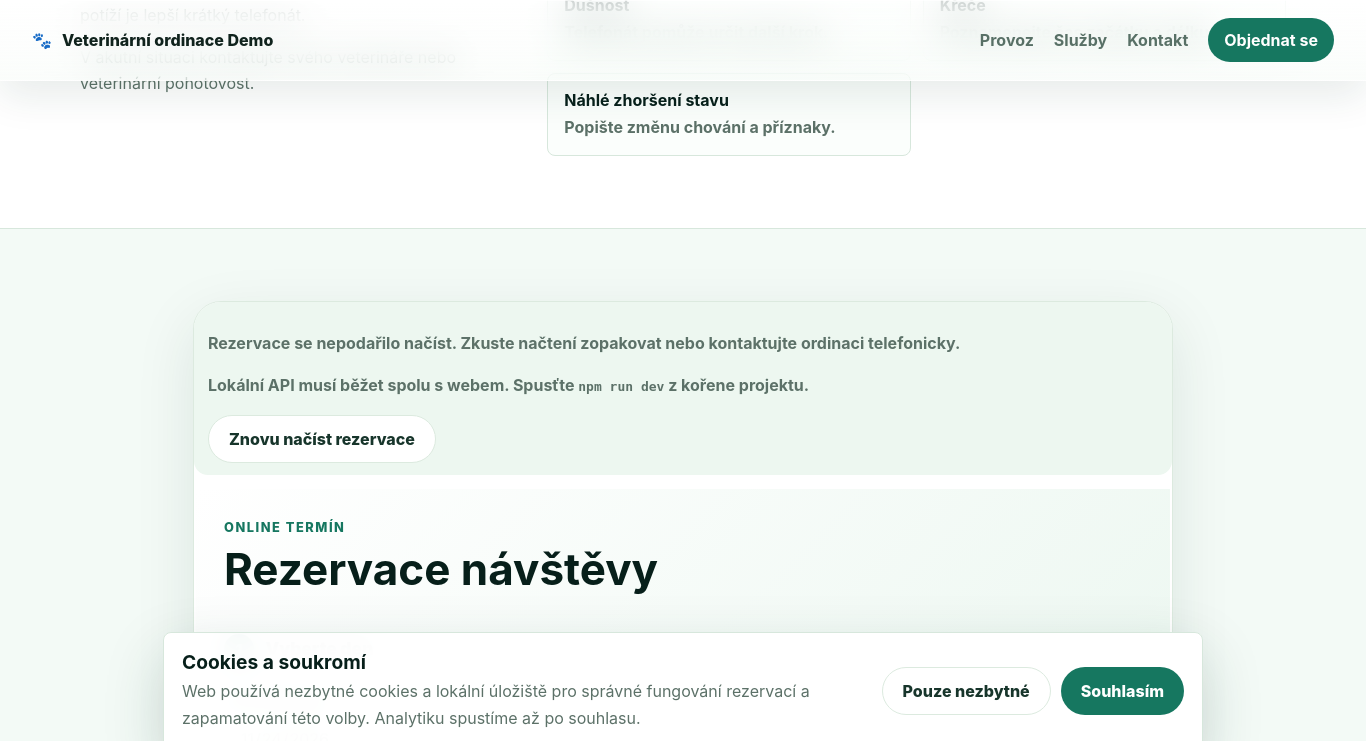
Scenario: shows an actionable error beside the disabled form and recovers after retry
(page scrolled)
Expected: the message is shown, [194, 302, 1172, 475]
Click the button "Znovu načíst rezervace". click: x=322, y=439
box: [208, 415, 436, 463]
(page scrolled)
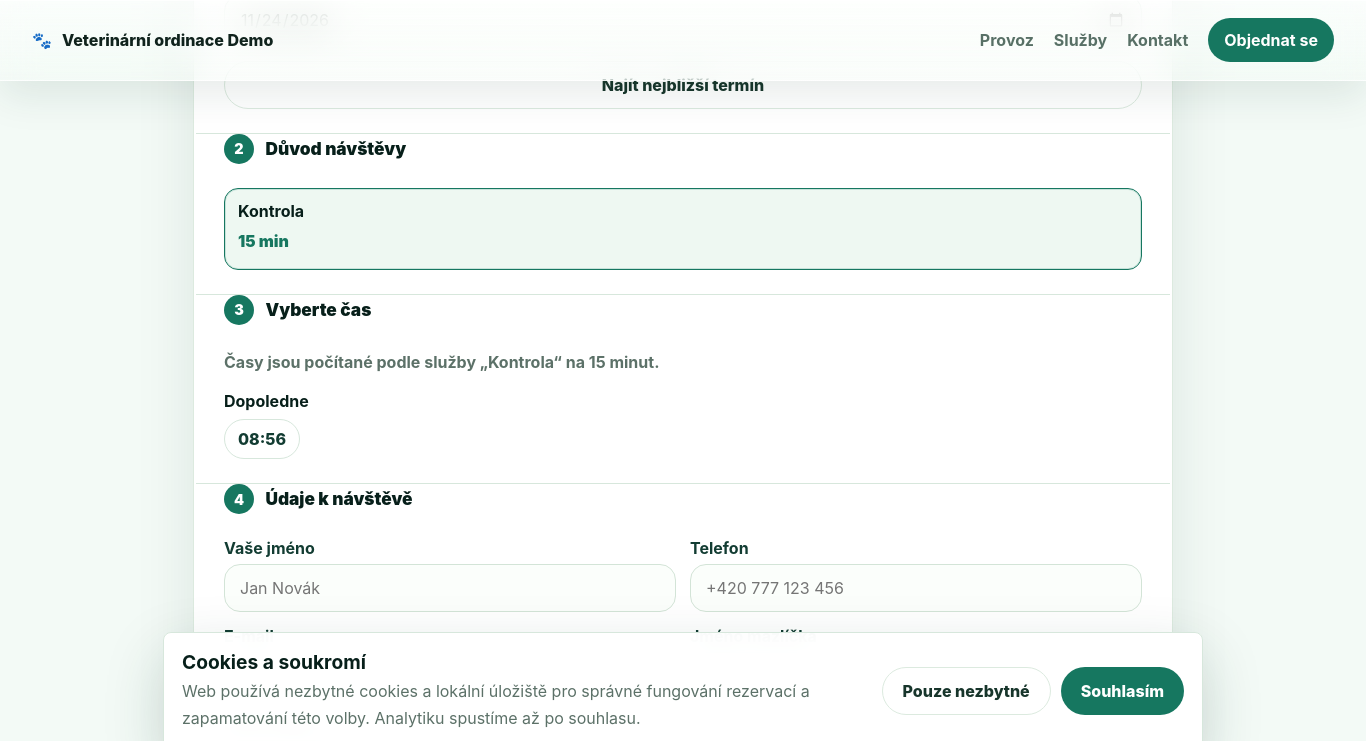
Result: the button named "Rezervovat čas" is shown at [224, 419, 300, 459]
Result: the message is gone
